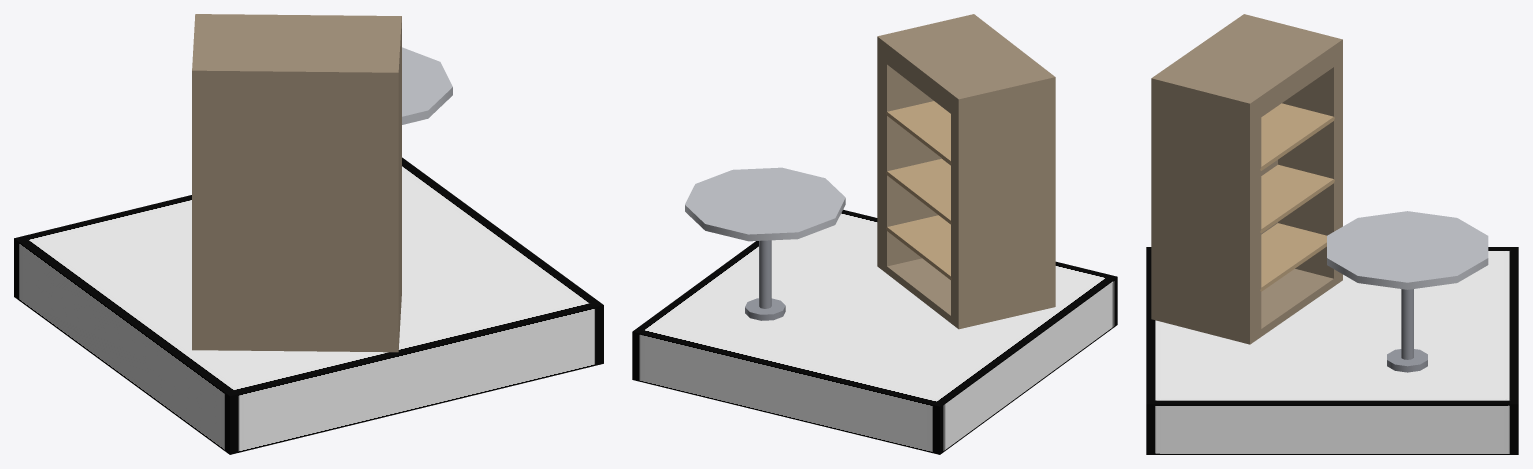
Rendered from tile_armoire.gltf.
3 views of the same model, side by side, from view 1: azimuth 30°, elevation 25°; view 2: azimuth 150°, elevation 25°; view 3: azimuth 270°, elevation 25° (orthographic). The views are drawn at different scales.
Visible parts, largest first — view 1: tile_armoire; view 2: tile_armoire; view 3: tile_armoire.
Part boxes in pixels (x1,y1,x2,y2): tile_armoire: (14, 14, 603, 454); tile_armoire: (632, 14, 1117, 454); tile_armoire: (1146, 14, 1518, 454).
Bounding box in the file's own units: 2 × 1.73 × 2.
5 materials, 1 textured.
